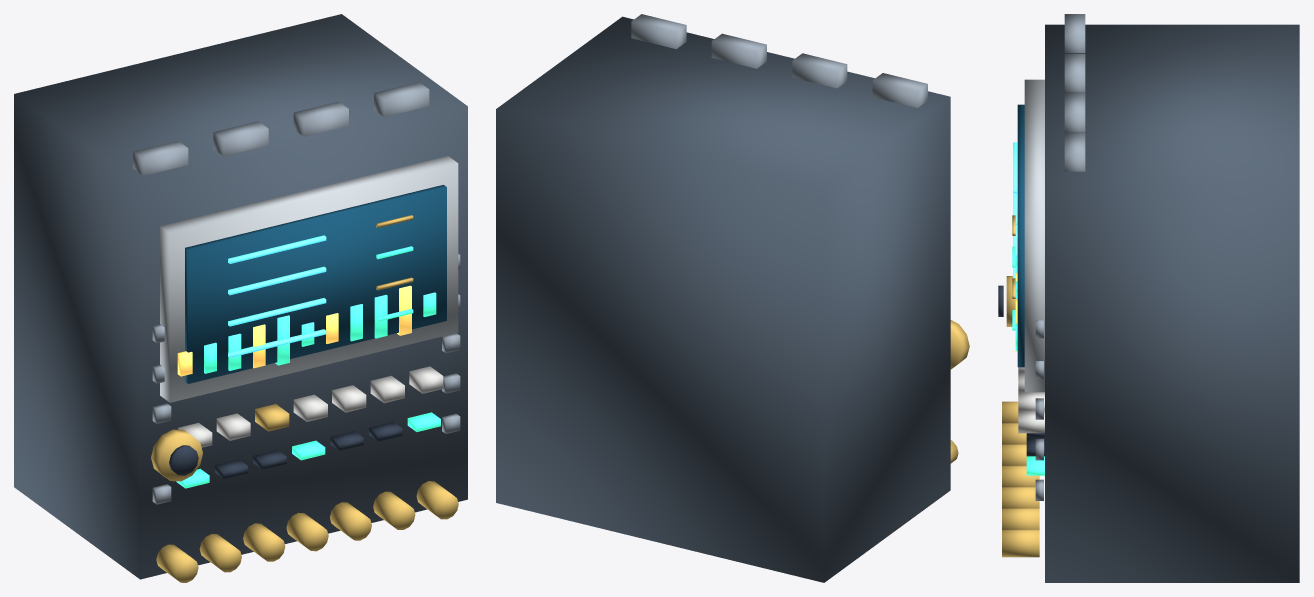
File: 31_L87_BearingGapCalibrationStage.glb
3 views of the same model, side by side, from view 1: azimuth 30°, elevation 25°; view 2: azimuth 150°, elevation 25°; view 3: azimuth 270°, elevation 25° (orthographic).
Visible parts, largest first — view 1: L87_BearingGapCalibrationStag_Part_0000, L87_BearingGapCalibrationStag_Part_0002, L87_BearingGapCalibrationStag_Part_0001, L87_BearingGapCalibrationStag_Part_0004, L87_BearingGapCalibrationStag_Part_0008, L87_BearingGapCalibrationStag_Part_0005, L87_BearingGapCalibrationStag_Part_0006, L87_BearingGapCalibrationStag_Part_0003, L87_BearingGapCalibrationStag_Part_0007, L87_BearingGapCalibrationStag_Part_0009, L87_BearingGapCalibrationStag_Part_0010, L87_BearingGapCalibrationStag_Part_0011; view 2: L87_BearingGapCalibrationStag_Part_0000, L87_BearingGapCalibrationStag_Part_0008, L87_BearingGapCalibrationStag_Part_0010; view 3: L87_BearingGapCalibrationStag_Part_0000, L87_BearingGapCalibrationStag_Part_0001, L87_BearingGapCalibrationStag_Part_0004, L87_BearingGapCalibrationStag_Part_0008, L87_BearingGapCalibrationStag_Part_0002, L87_BearingGapCalibrationStag_Part_0006, L87_BearingGapCalibrationStag_Part_0005, L87_BearingGapCalibrationStag_Part_0003.
Boxes of the visible parts, x1,y1,x2,y2 form: L87_BearingGapCalibrationStag_Part_0000: (14,14,467,579); L87_BearingGapCalibrationStag_Part_0002: (185,185,446,383); L87_BearingGapCalibrationStag_Part_0001: (160,156,458,402); L87_BearingGapCalibrationStag_Part_0004: (156,215,458,582); L87_BearingGapCalibrationStag_Part_0008: (133,82,460,504); L87_BearingGapCalibrationStag_Part_0005: (176,246,440,488); L87_BearingGapCalibrationStag_Part_0006: (178,366,443,447); L87_BearingGapCalibrationStag_Part_0003: (228,235,326,357); L87_BearingGapCalibrationStag_Part_0007: (215,422,402,478); L87_BearingGapCalibrationStag_Part_0009: (177,285,411,376); L87_BearingGapCalibrationStag_Part_0010: (151,429,202,481); L87_BearingGapCalibrationStag_Part_0011: (169,445,198,475); L87_BearingGapCalibrationStag_Part_0000: (496,16,950,582); L87_BearingGapCalibrationStag_Part_0008: (631,14,927,107); L87_BearingGapCalibrationStag_Part_0010: (950,320,969,369); L87_BearingGapCalibrationStag_Part_0000: (1045,24,1299,582); L87_BearingGapCalibrationStag_Part_0001: (1024,79,1044,392); L87_BearingGapCalibrationStag_Part_0004: (1002,215,1039,557); L87_BearingGapCalibrationStag_Part_0008: (1035,14,1085,500); L87_BearingGapCalibrationStag_Part_0002: (1017,104,1024,367); L87_BearingGapCalibrationStag_Part_0006: (1018,367,1044,433); L87_BearingGapCalibrationStag_Part_0005: (1012,213,1044,475); L87_BearingGapCalibrationStag_Part_0003: (1013,142,1017,278).
Bounding box in the file's own units: 0.9695 × 1.16 × 0.765.
